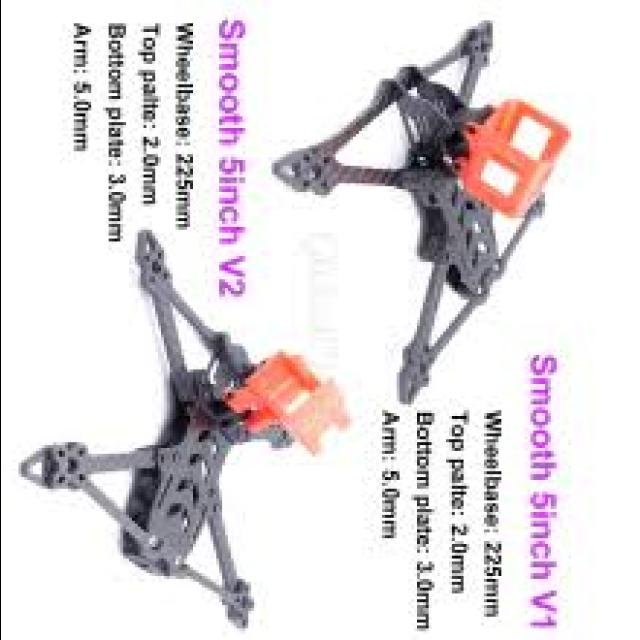drone: (14, 228, 362, 624), (262, 18, 566, 430)
